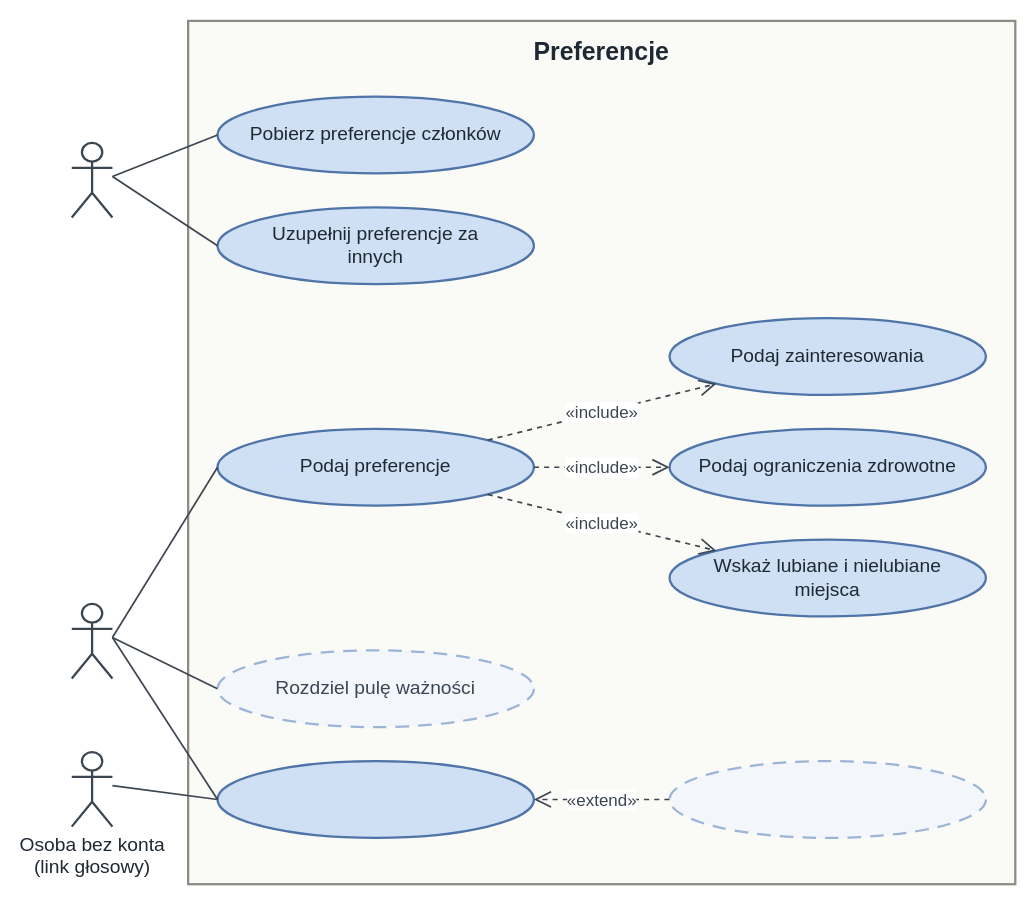
This 1036x904 diagram has some shape labels left out. Each missing label, with the box of its shape:
Członek podróży: (70, 602, 113, 679)
Host: (70, 141, 113, 218)
Oceń miejsce kciukiem: (216, 759, 534, 838)
Wskaż powód odrzucenia: (668, 759, 986, 838)
